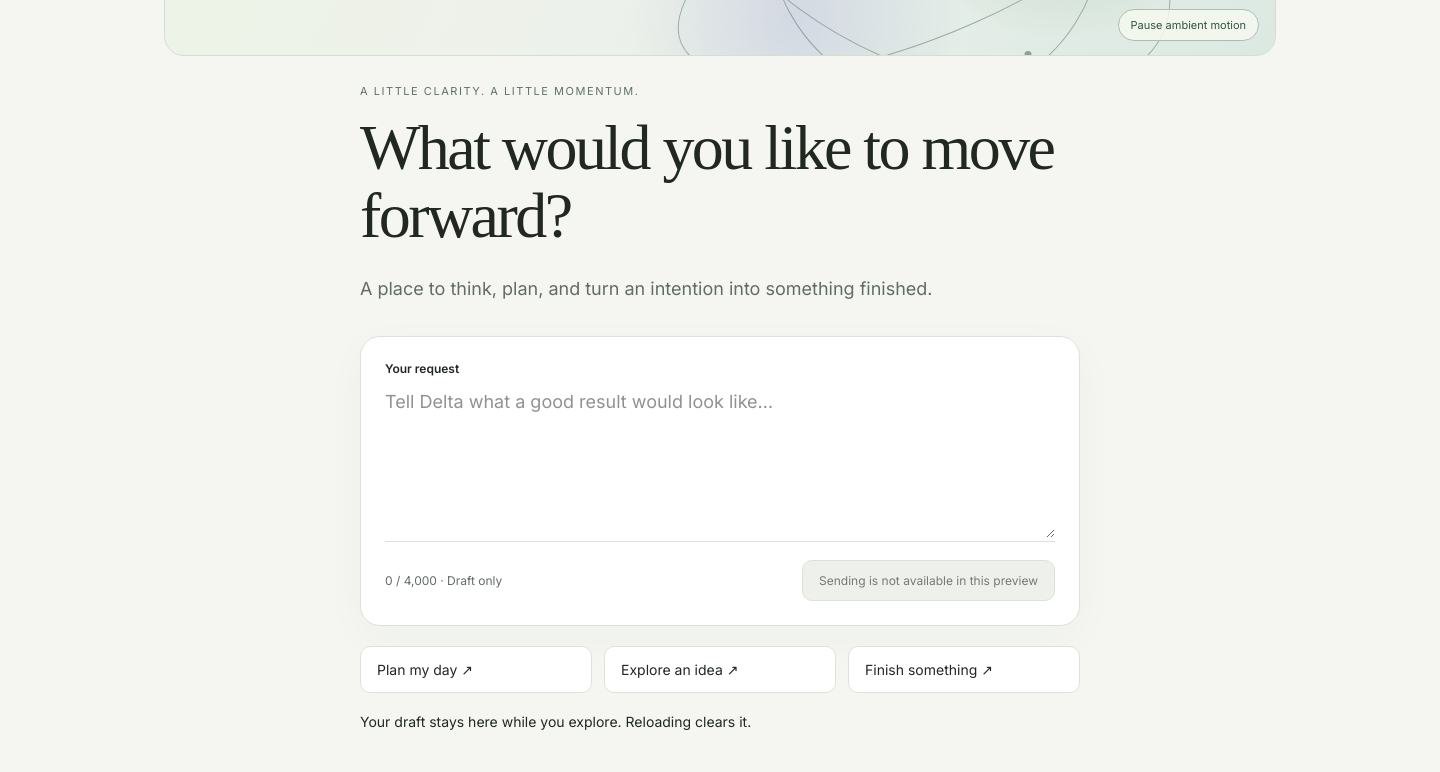
Test: keeps technical navigation and runtime requests out of the personal experience
This screenshot has width=1440, height=772.
(page scrolled)
Step 1. Type "Plan my day" into the text box labelled "Your request" → (720, 463), box [385,388,1055,538]
(page scrolled)
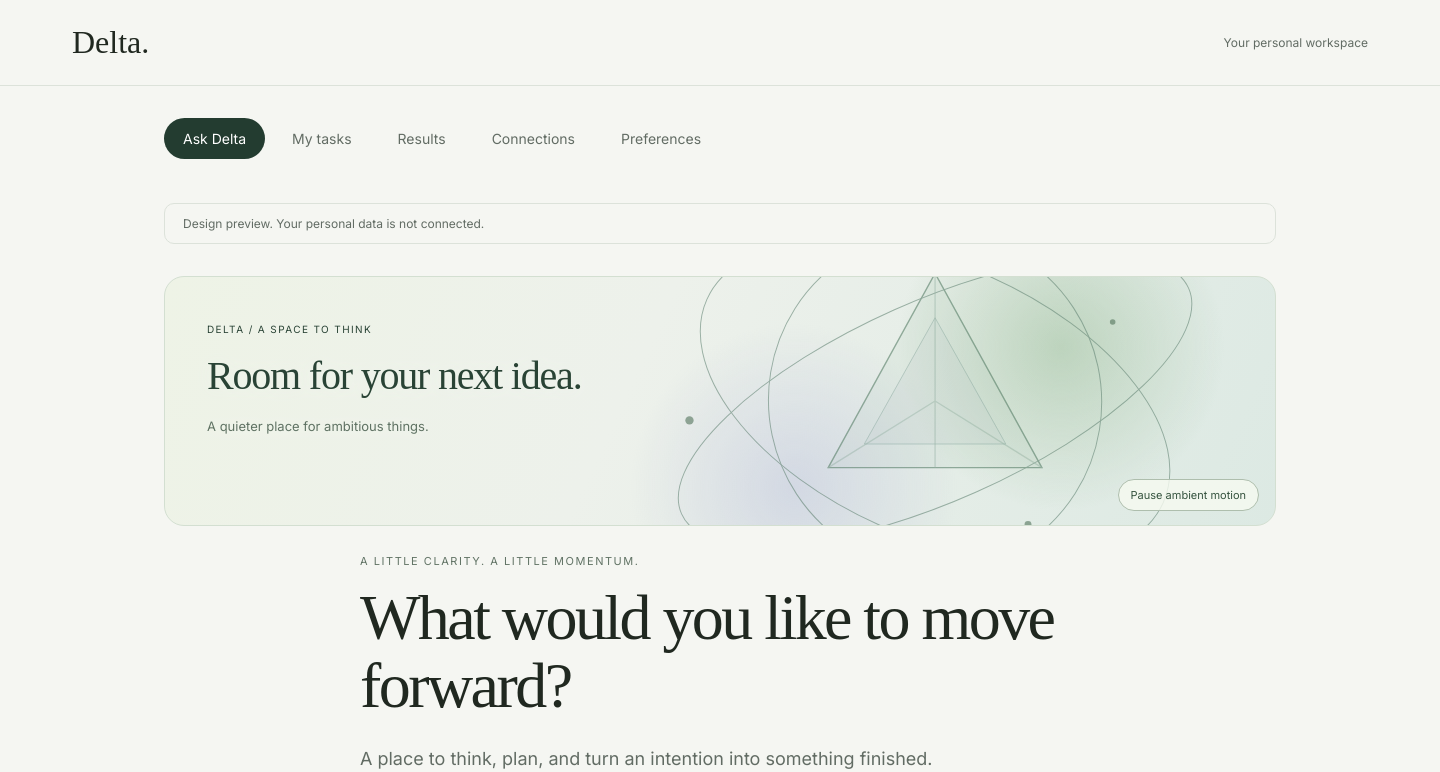
Step 2. Click the link "Results" → (422, 138), box [398,130,446,147]
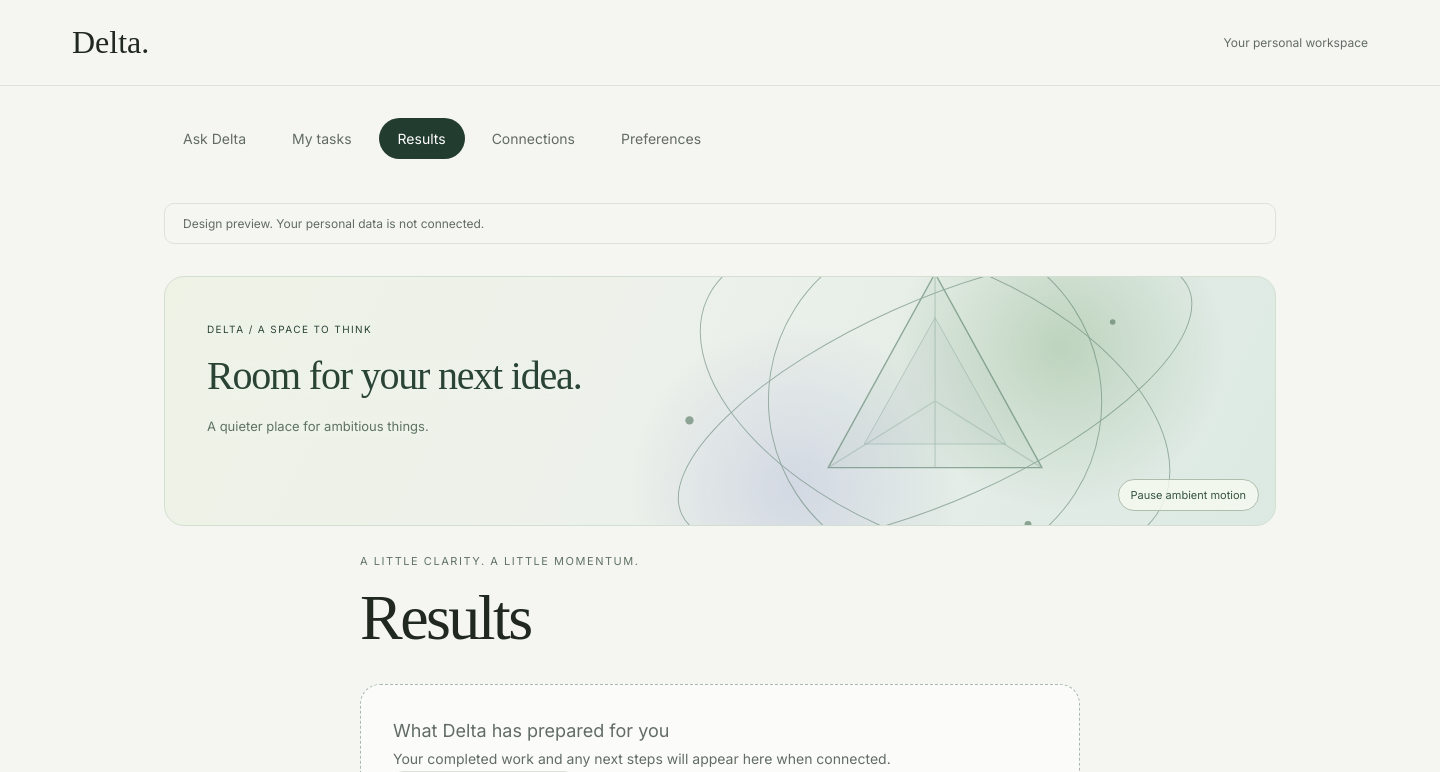
Check: the text "Your completed work" is shown, box [393,750,891,767]
Step 3. Click the link "Ask Delta" → (214, 138), box [183,130,246,147]
(page scrolled)
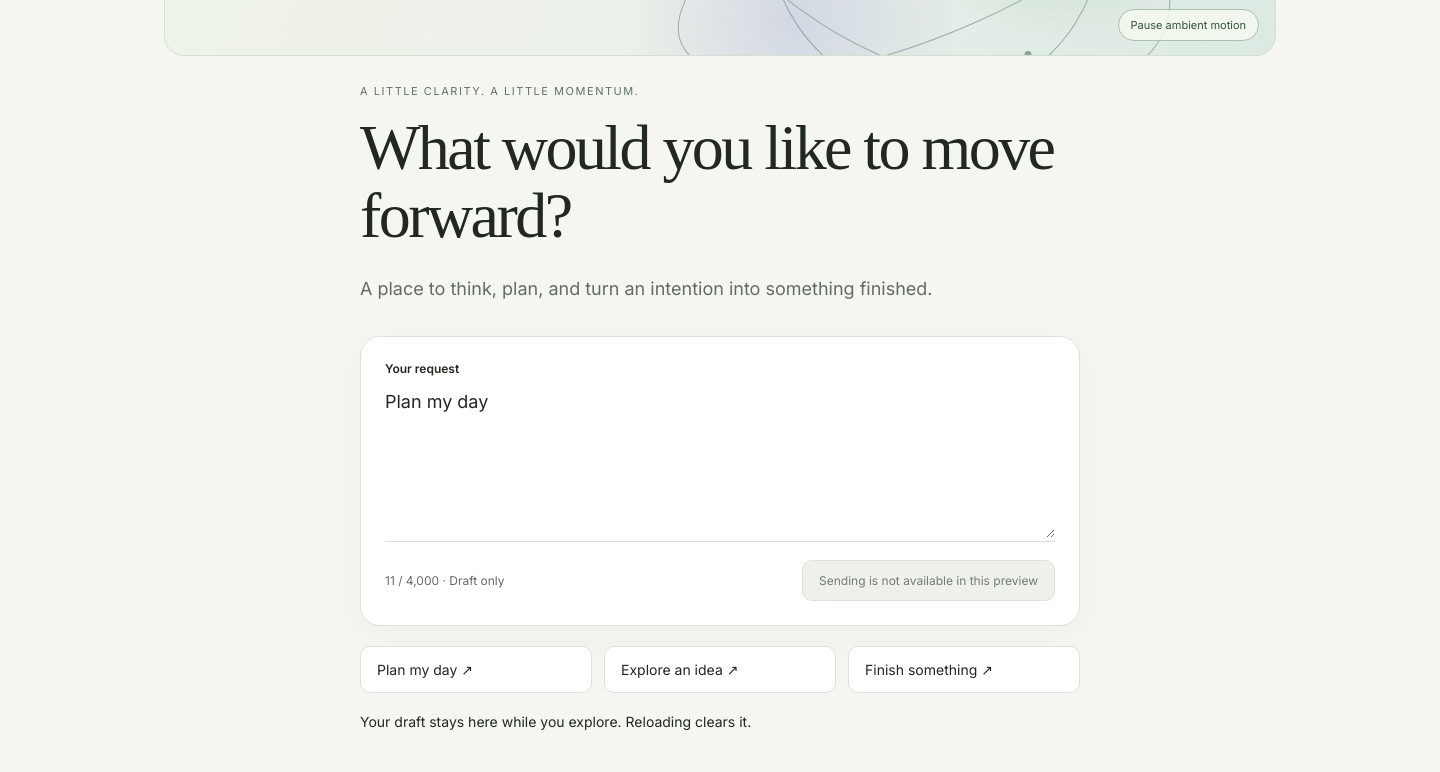
Check: the text box labelled "Your request" holds "Plan my day", box [385,388,1055,538]
